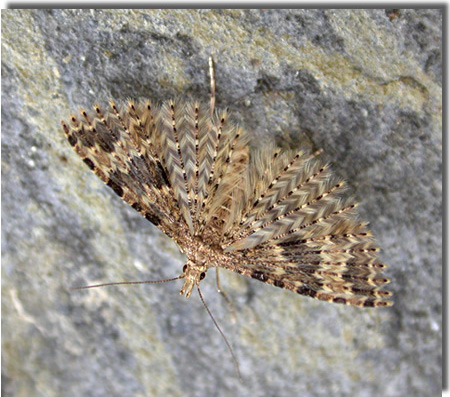Alucitidae: (54, 59, 395, 372)
moth: (56, 61, 397, 374)
